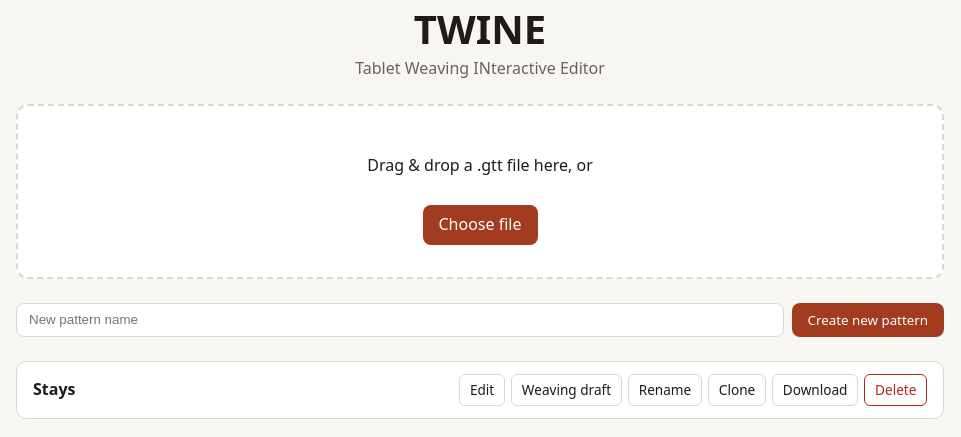
Test case: PatternSelectionPage › cancels an in-progress rename via Escape, leaving the original name
Expected: the text "Stays" is shown, [33,378,76,400]
Click the button "Rename" at (665,390), box [628,374,702,406]
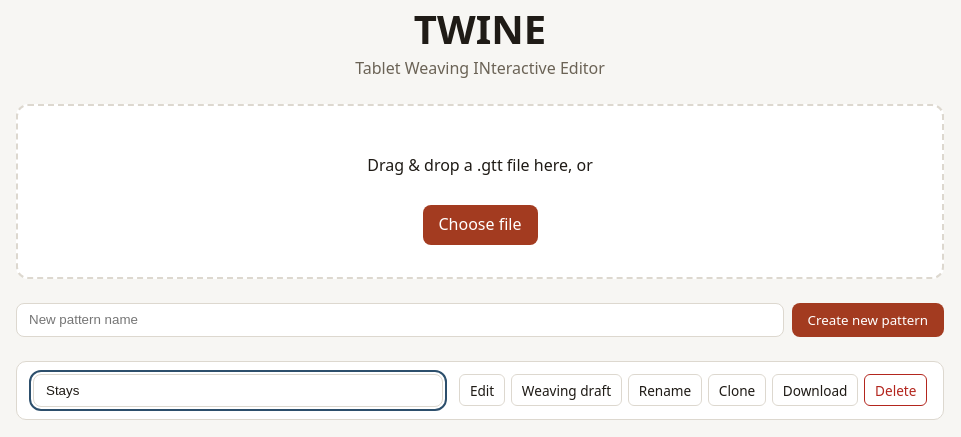
Type "Ignored" into the field named "Rename Stays" at (238,390), box [33,374,443,407]
Then press Escape
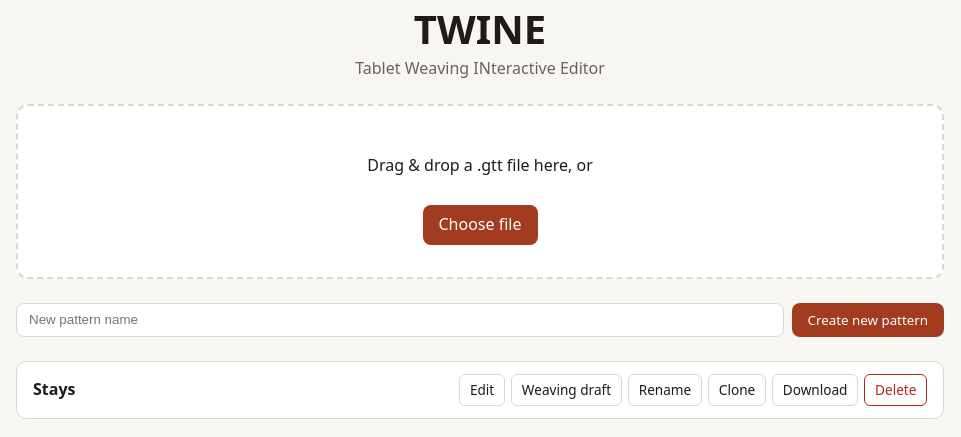
Expected: the text "Stays" is shown, [33,378,76,400]
